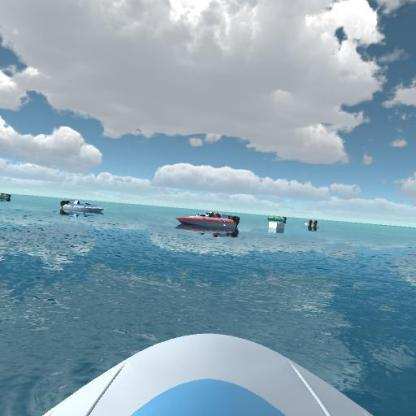usv0: (264, 210, 292, 228), (1, 189, 16, 204)
usv1: (57, 192, 105, 217), (301, 215, 324, 232)
usv3: (169, 208, 247, 235)
